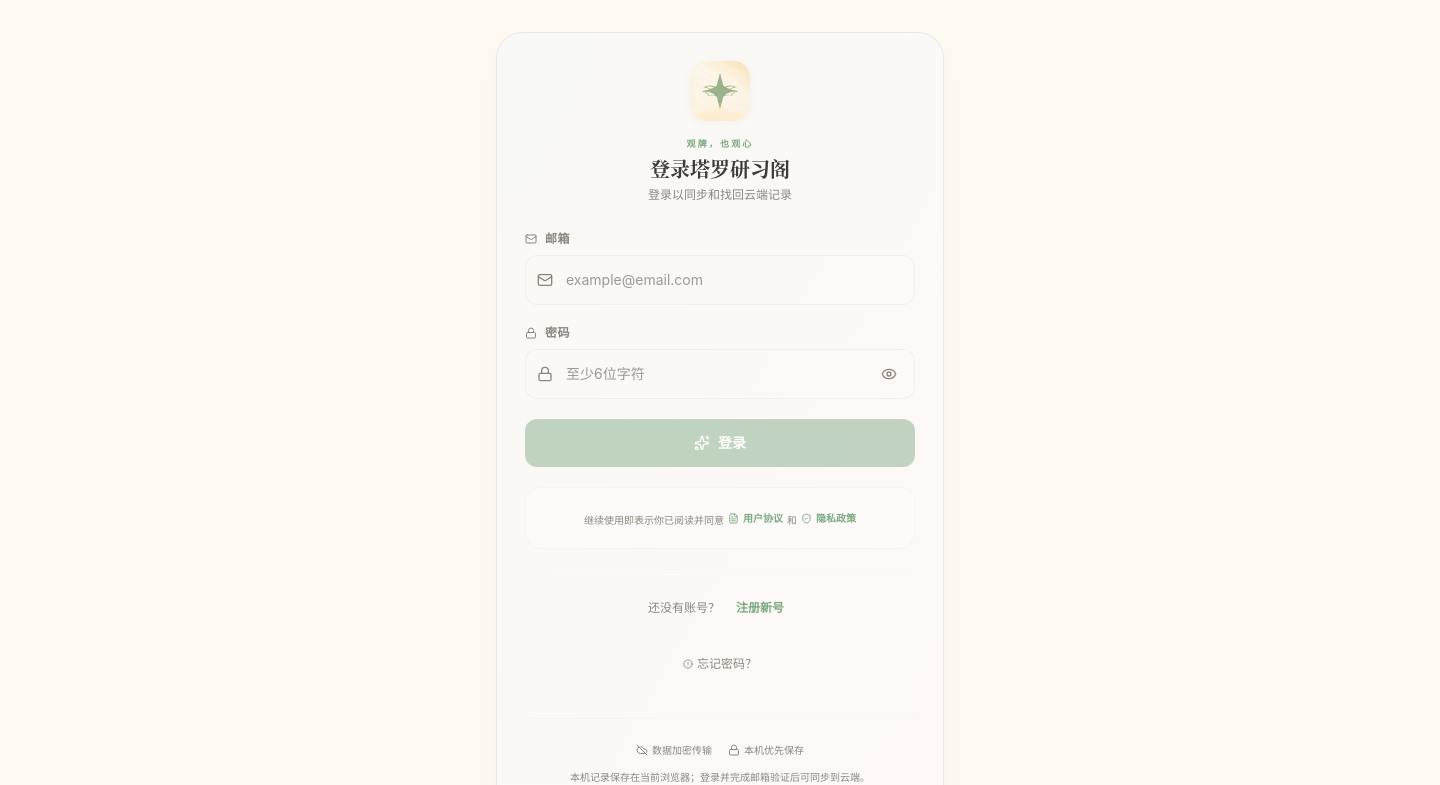
Auth › opens password reset from wrong password recovery action
Type "roxy@example.com" into the field with placeholder "example@email.com" at [720, 280], box x1=525 y1=254 x2=915 y2=304
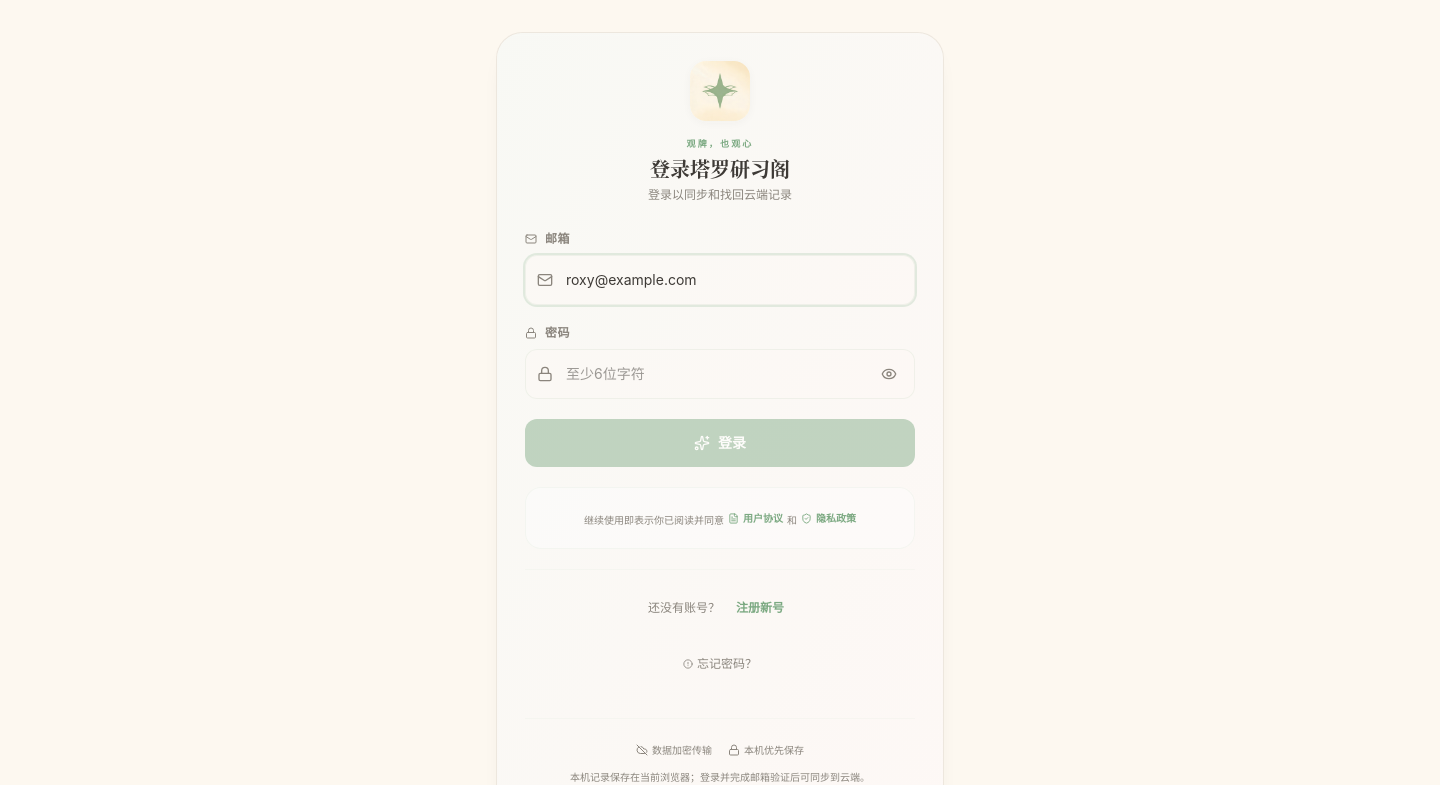
Type "wrong-pass" into the password field with placeholder "至少6位字符" at [720, 374], box x1=525 y1=348 x2=915 y2=398
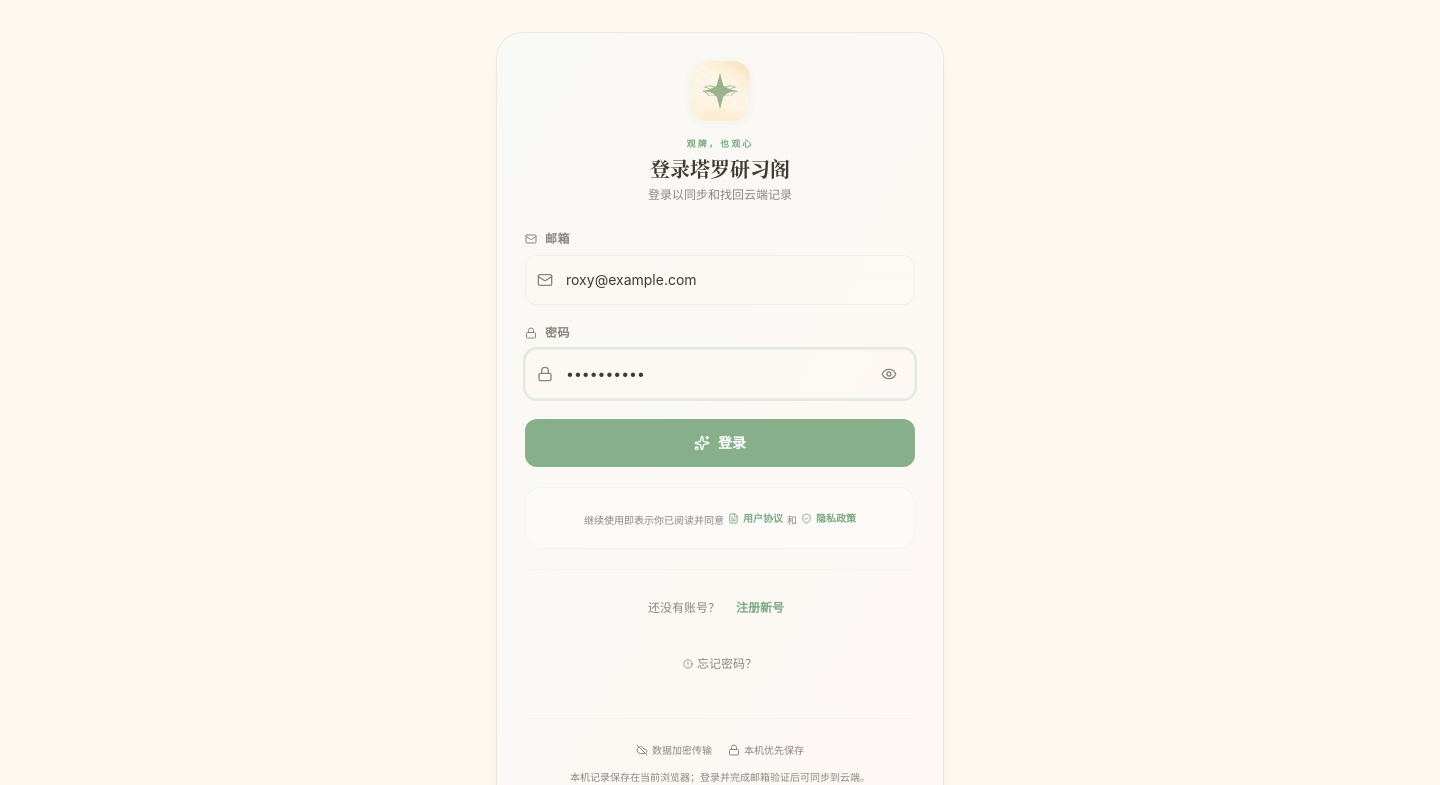
Click the button "登录" at [720, 442], box x1=525 y1=418 x2=915 y2=466
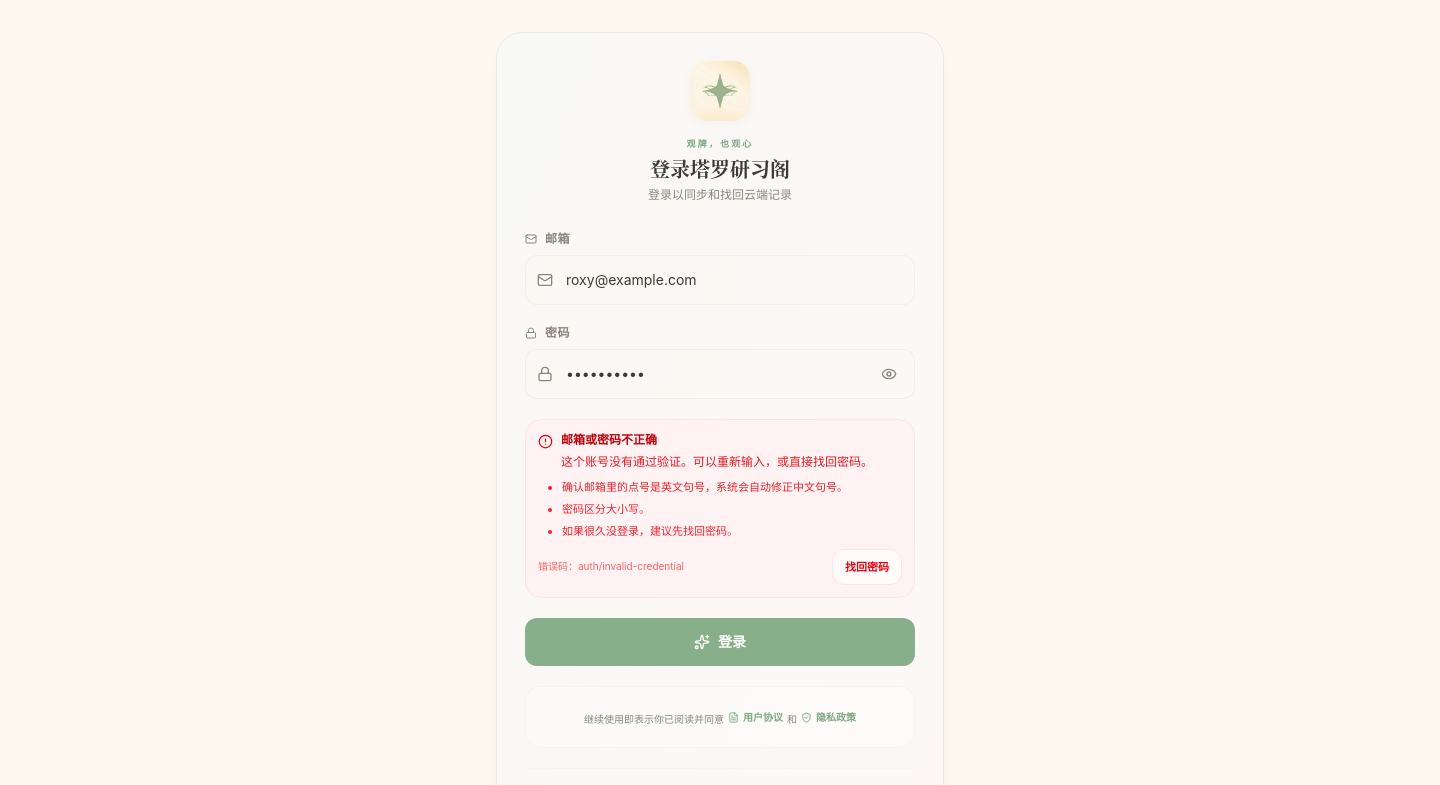
Result: the text "邮箱或密码不正确" is shown at x1=561 y1=432 x2=657 y2=446
Click the button "找回密码" at [867, 567], box x1=832 y1=549 x2=902 y2=585
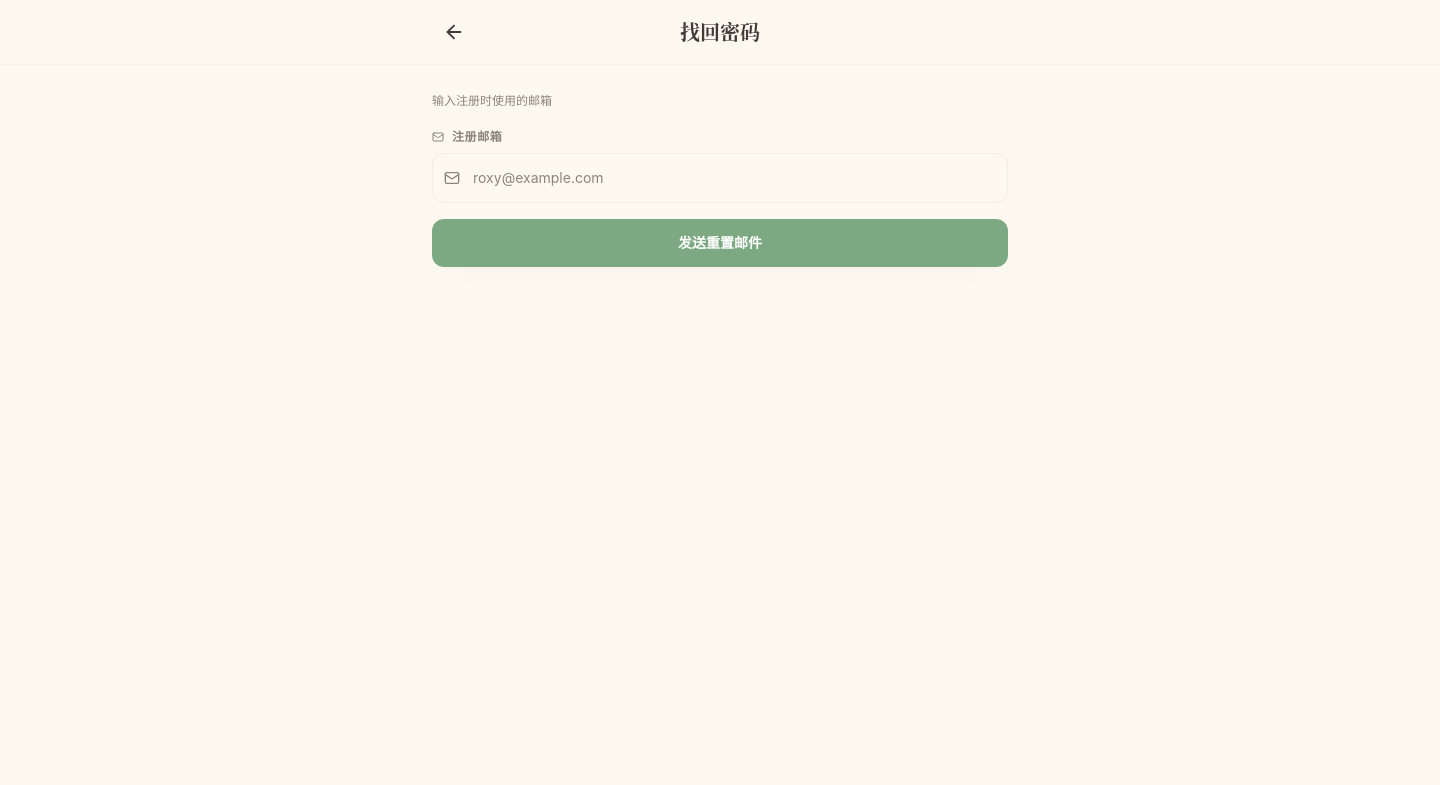
Expected: the number of fields showing "roxy@example.com" is 2, x1=525 y1=254 x2=915 y2=304; x1=432 y1=153 x2=1008 y2=203
Result: the heading "找回密码" is shown at x1=680 y1=17 x2=760 y2=46
